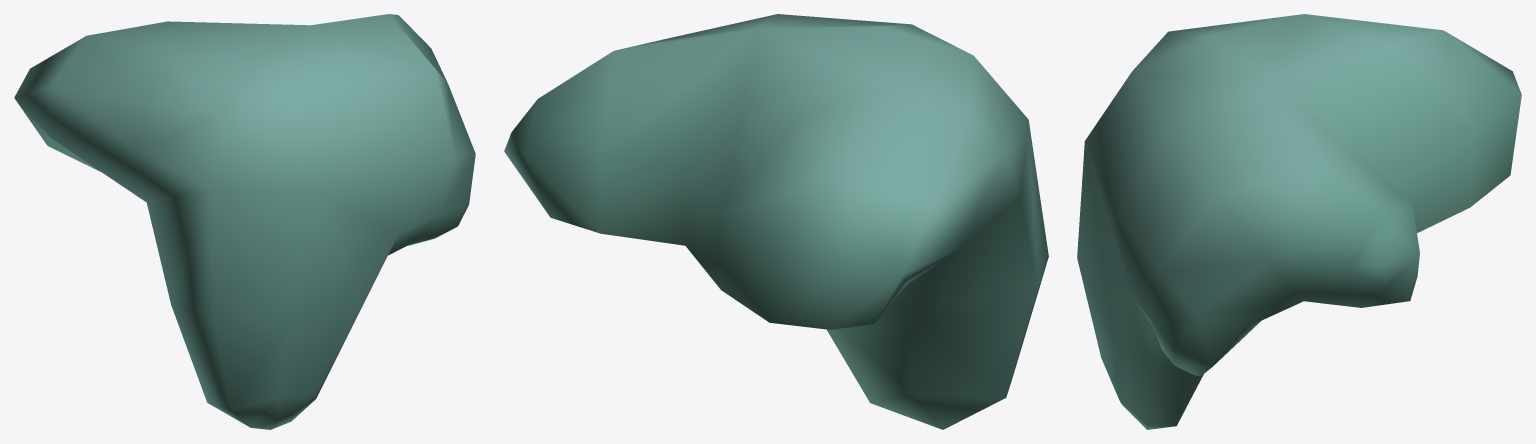
File: SeaweedLumpC_11.glb
3 views of the same model, side by side, from view 1: azimuth 30°, elevation 25°; view 2: azimuth 150°, elevation 25°; view 3: azimuth 270°, elevation 25° (orthographic). The views are drawn at different scales.
Parts seen in each view (by area): view 1: SeaweedLumpC; view 2: SeaweedLumpC; view 3: SeaweedLumpC.
Part boxes in pixels (box(x1,y1,x2,y2)): SeaweedLumpC: box(14, 14, 475, 429); SeaweedLumpC: box(504, 14, 1048, 429); SeaweedLumpC: box(1077, 14, 1521, 429).
Size of the model in its own units: 0.3315 by 0.2914 by 0.2983.
